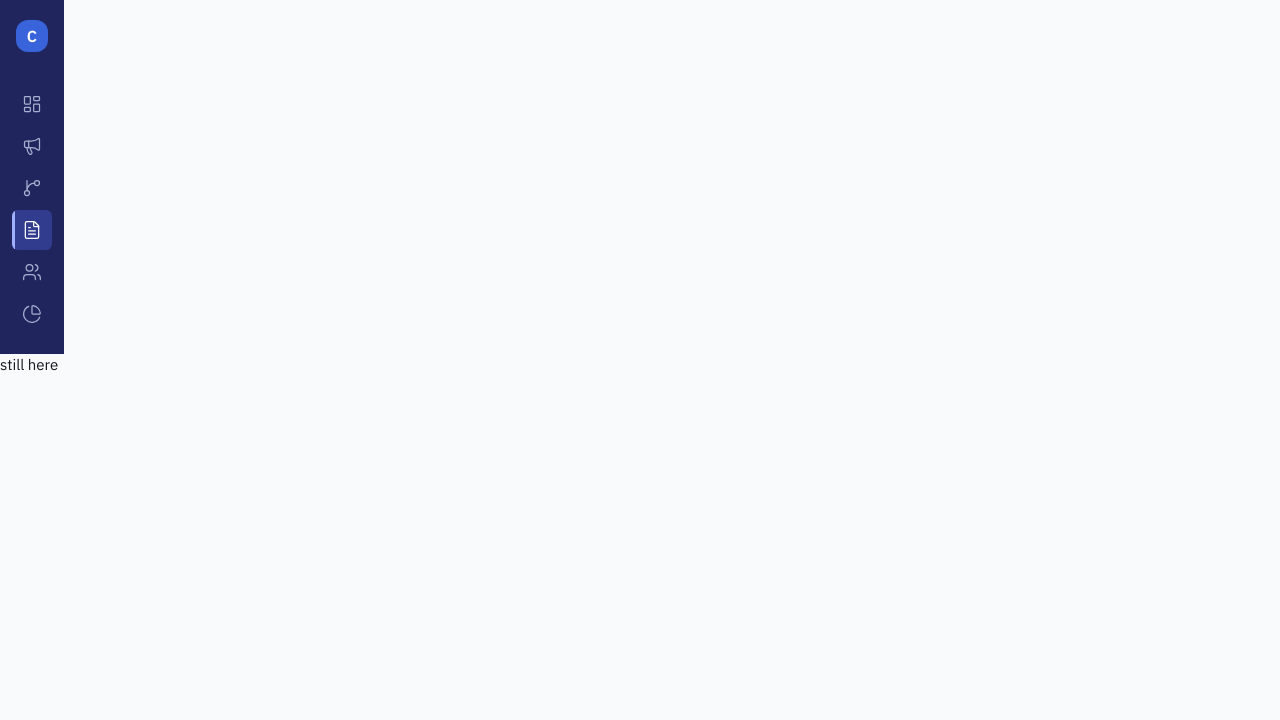
it: with unsaved work a link opens the leave dialog instead of leaving
The image size is (1280, 720).
Click the link named "Campaigns". click: coordinates (32, 146)
box: [22, 136, 42, 156]
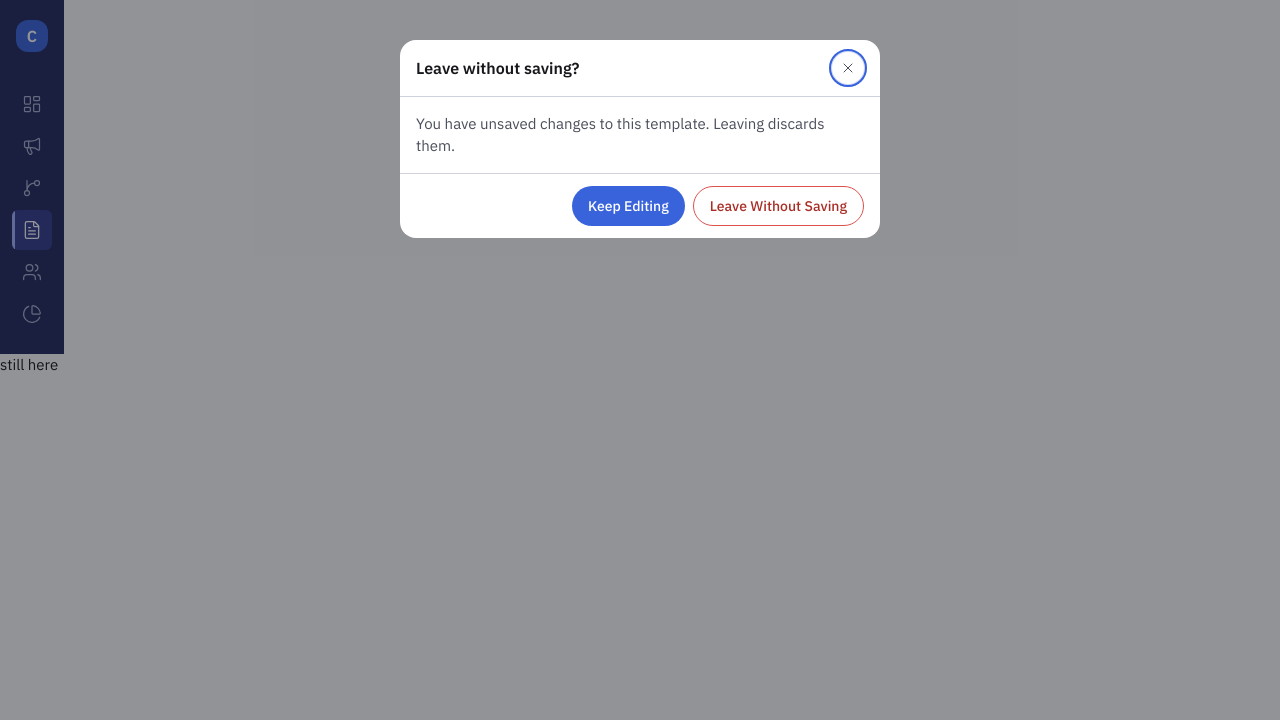
Expected: the text "still here" is shown, [0, 355, 58, 374]
Expected: the dialog "Leave without saving?" is shown, [400, 40, 880, 238]
Click the button "Leave Without Saving". click: coordinates (778, 206)
box: [693, 186, 864, 226]
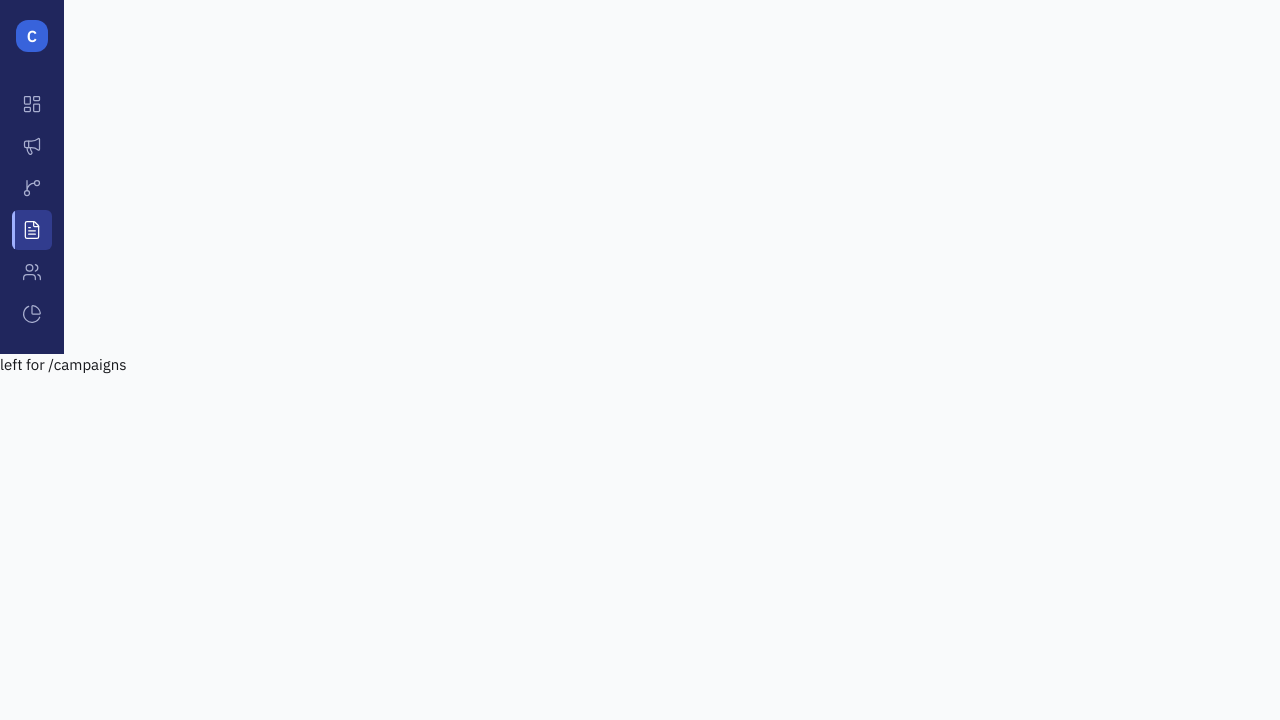
Expected: the text "left for /campaigns" is shown, [0, 355, 127, 374]
